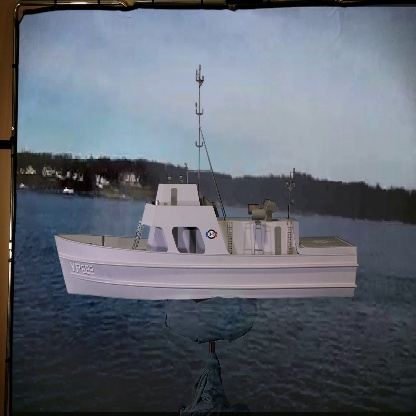YP689: (47, 54, 364, 303)
